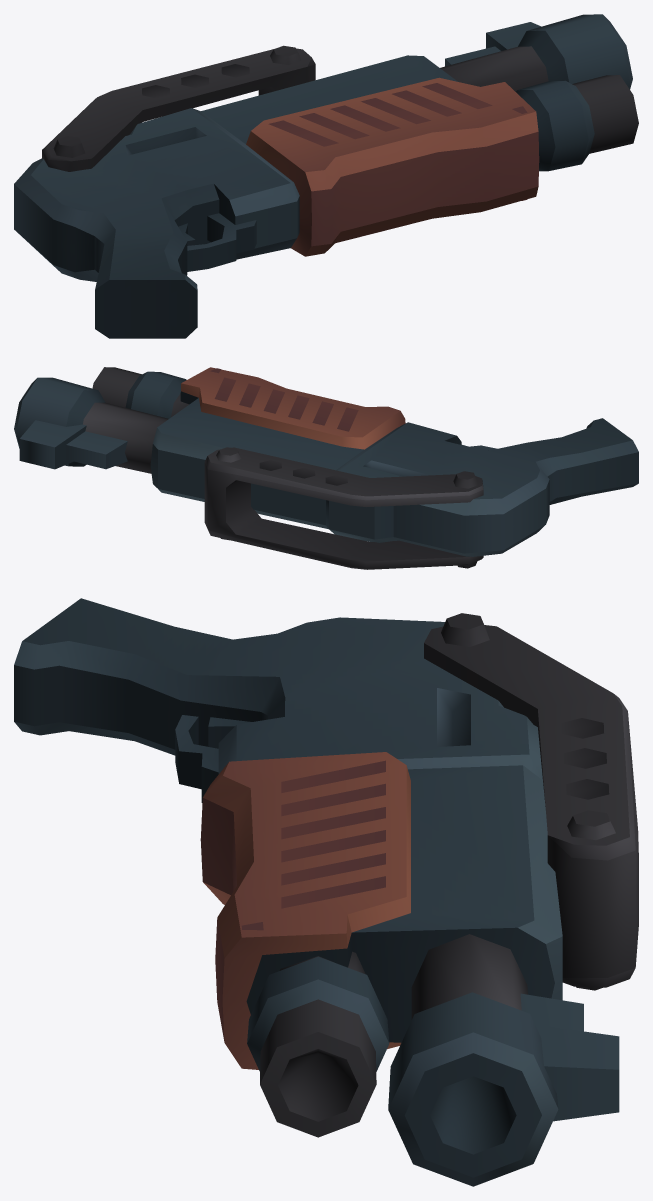
The model's file is Weapon_Shotgun.fbx.
3 renders of one model, top to bottom at view 1: azimuth 30°, elevation 25°; view 2: azimuth 150°, elevation 25°; view 3: azimuth 270°, elevation 25°, orthographic. The views are drawn at different scales.
Parts seen in each view (by area): view 1: Weapon_Shotgun; view 2: Weapon_Shotgun; view 3: Weapon_Shotgun.
Part boxes in pixels (x1,y1,x2,y2): Weapon_Shotgun: (14, 14, 638, 338); Weapon_Shotgun: (14, 367, 638, 569); Weapon_Shotgun: (14, 598, 638, 1186).
Size of the model in its own units: 0.6319 by 0.1055 by 0.3475.
